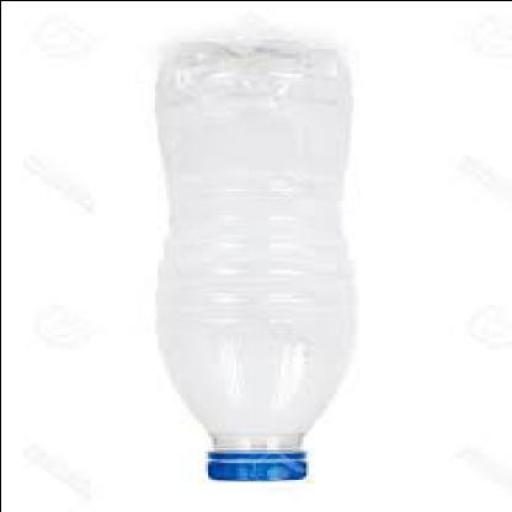plastic: (151, 41, 350, 482), (204, 452, 302, 482)
